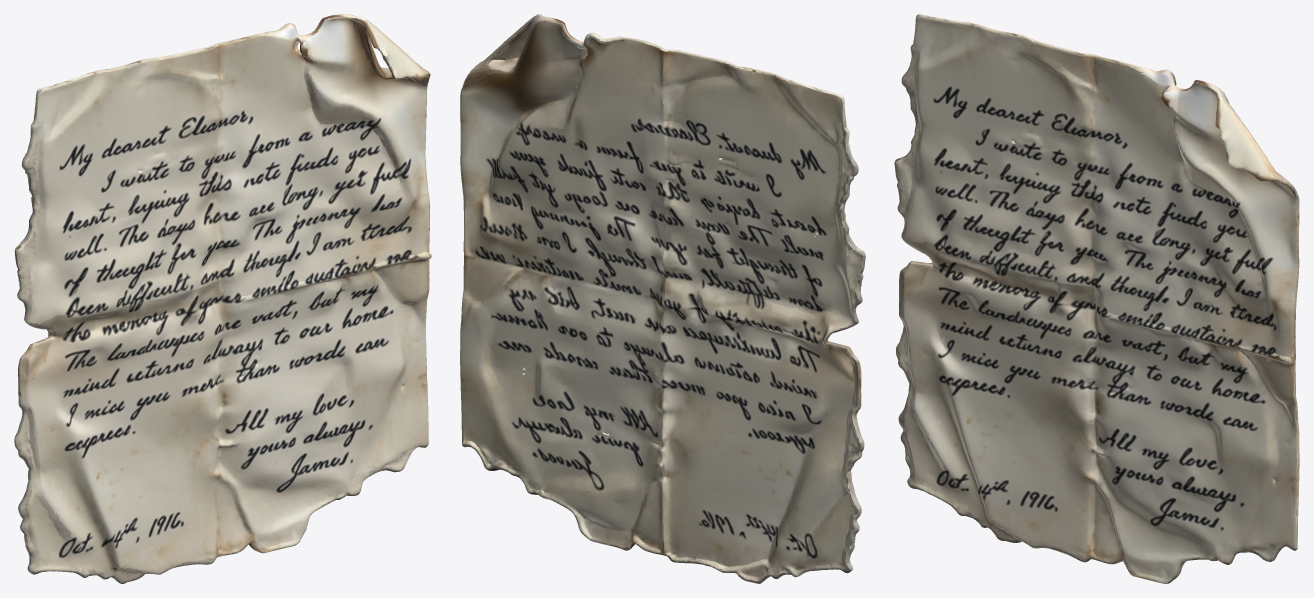
Rendered from torn-letter.glb.
3 views of the same model, side by side, from view 1: azimuth 30°, elevation 25°; view 2: azimuth 150°, elevation 25°; view 3: azimuth 330°, elevation 25° (orthographic).
Visible parts, largest first — view 1: geometry_0; view 2: geometry_0; view 3: geometry_0.
Boxes of the visible parts, left/top/right/bottom form: geometry_0: left=14, top=14, right=431, bottom=583; geometry_0: left=460, top=14, right=865, bottom=583; geometry_0: left=894, top=14, right=1299, bottom=583.
Size of the model in its own units: 0.21 by 0.2538 by 0.0221.
1 material, 1 textured.
